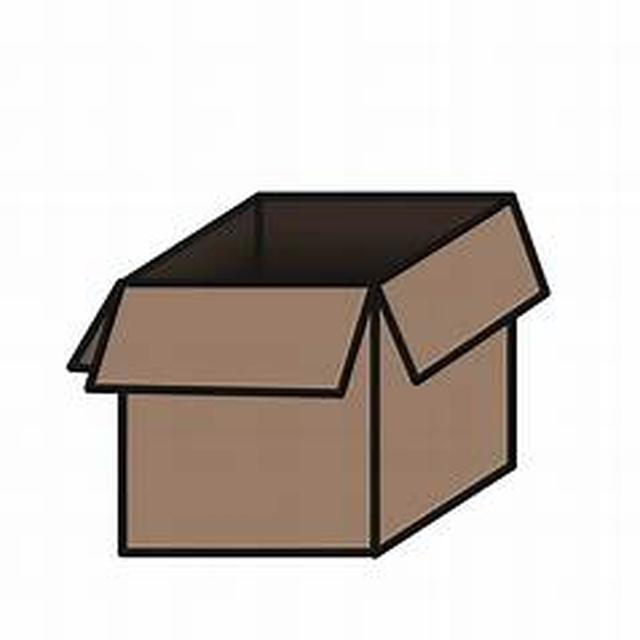box: (70, 164, 560, 572)
